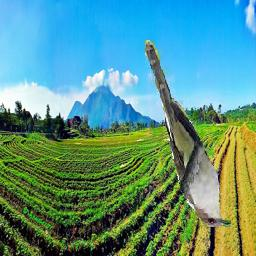Cuckoo: (145, 41, 231, 228)
